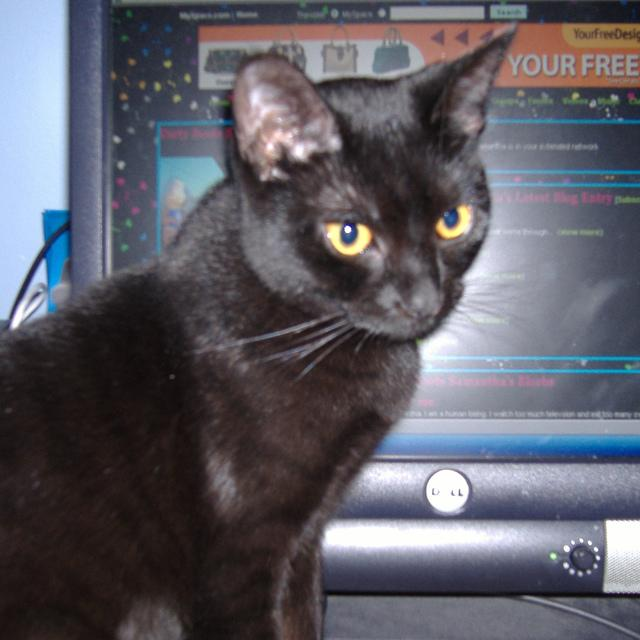animals: (245, 23, 516, 315)
